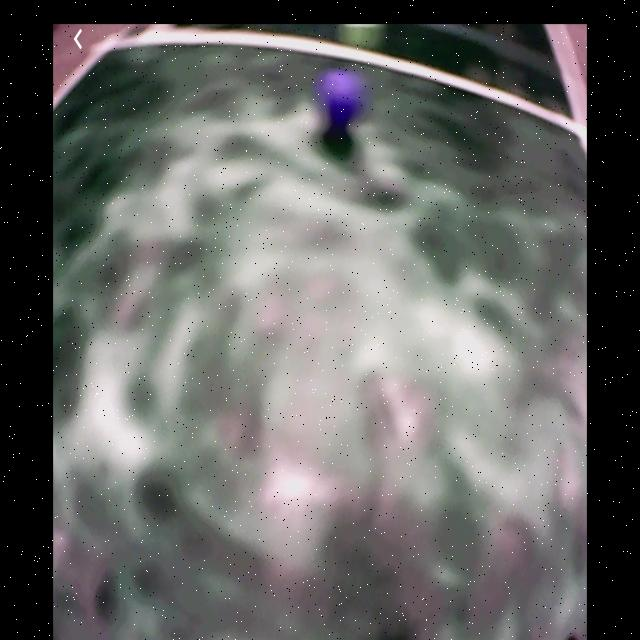ball: (320, 65, 367, 136)
